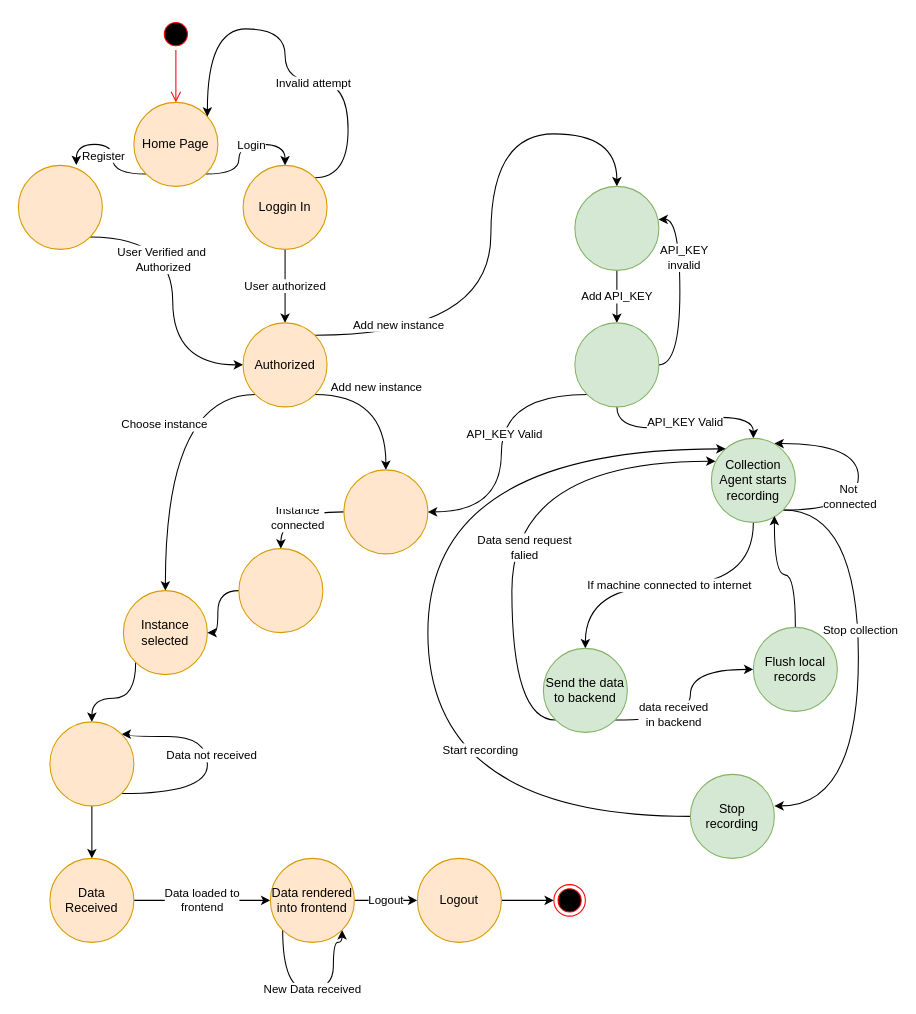
Some shapes in this 916 by 1014 pixel diagram are drawn without their labels. Each missing label, with the box of its shape:
Install collector agent on host machine: (574, 185, 659, 270)
Instance Added: (238, 548, 323, 633)
Register Page: (17, 164, 102, 249)
setup uplink to database: (574, 322, 659, 407)
Waiting to add new instance: (343, 469, 428, 554)
Waiting to receive data from backend: (49, 721, 134, 806)
